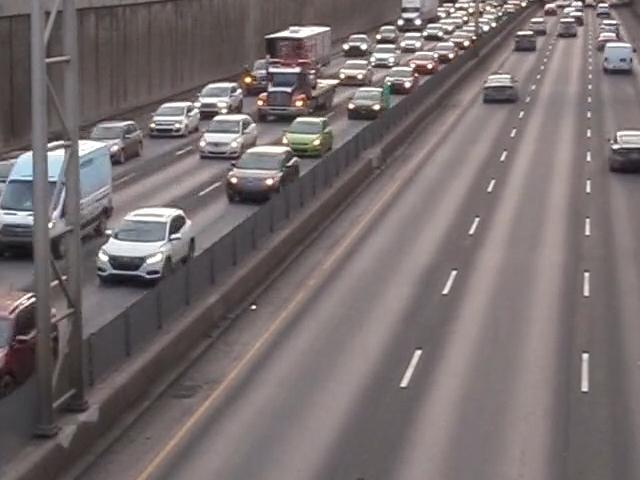car: (90, 203, 205, 297), (0, 281, 76, 419), (222, 142, 302, 207), (94, 111, 146, 157), (206, 114, 256, 161), (150, 89, 196, 137), (279, 113, 333, 153), (197, 80, 241, 123), (480, 67, 522, 105), (347, 87, 397, 117), (613, 129, 640, 176), (334, 57, 375, 85), (384, 66, 417, 93), (371, 44, 404, 69), (340, 30, 371, 56), (409, 51, 438, 76)
truck: (253, 56, 340, 117), (394, 0, 440, 29)
van: (0, 138, 110, 270)
